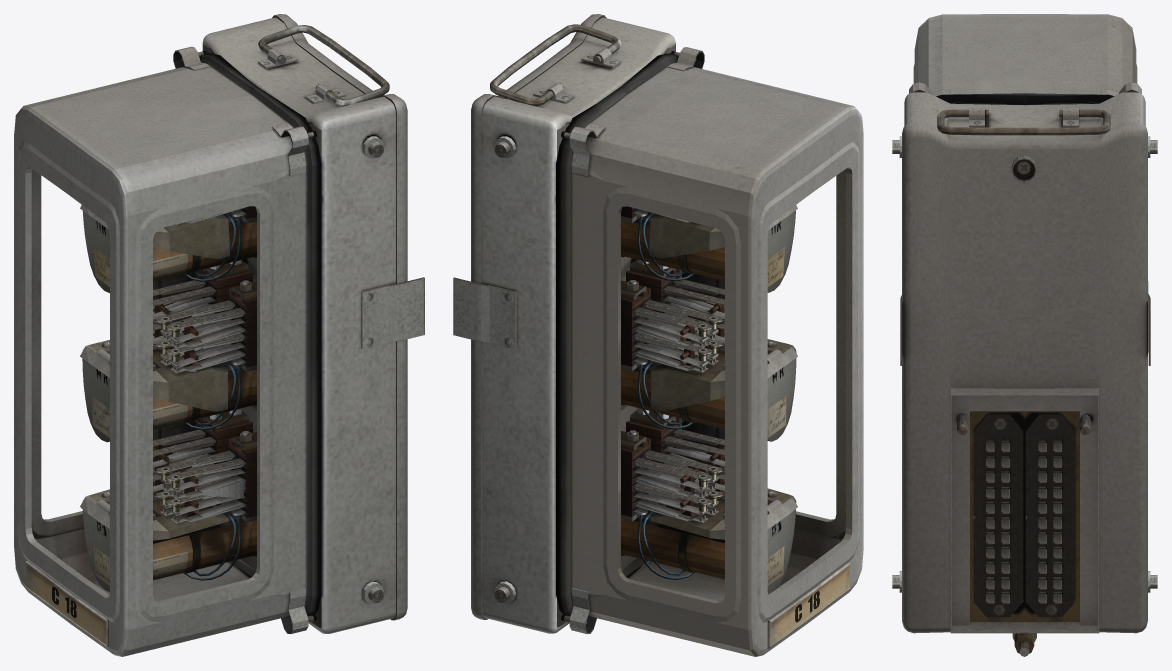
3 views of the same model, side by side, from view 1: azimuth 30°, elevation 25°; view 2: azimuth 150°, elevation 25°; view 3: azimuth 270°, elevation 25° (orthographic). The views are drawn at different scales.
Parts seen in each view (by area): view 1: C_18, ya005, ya004, ya006, k007, k009, k008, p006; view 2: C_18, ya005, ya004, ya006, k007, k009, k008; view 3: C_18.
Part boxes in pixels (x1,y1,x2,y2): C_18: [14, 14, 424, 656]; ya005: [80, 340, 227, 442]; ya004: [80, 205, 229, 292]; ya006: [82, 484, 228, 591]; k007: [153, 296, 245, 343]; k009: [153, 445, 245, 491]; k008: [153, 324, 245, 368]; p006: [153, 446, 198, 517]; C_18: [453, 14, 863, 656]; ya005: [651, 339, 797, 441]; ya004: [649, 205, 797, 292]; ya006: [650, 483, 796, 591]; k007: [633, 296, 724, 343]; k009: [633, 444, 724, 490]; k008: [633, 323, 724, 367]; C_18: [892, 14, 1157, 656].
Size of the model in its own units: 0.1742 by 0.2963 by 0.1347.
